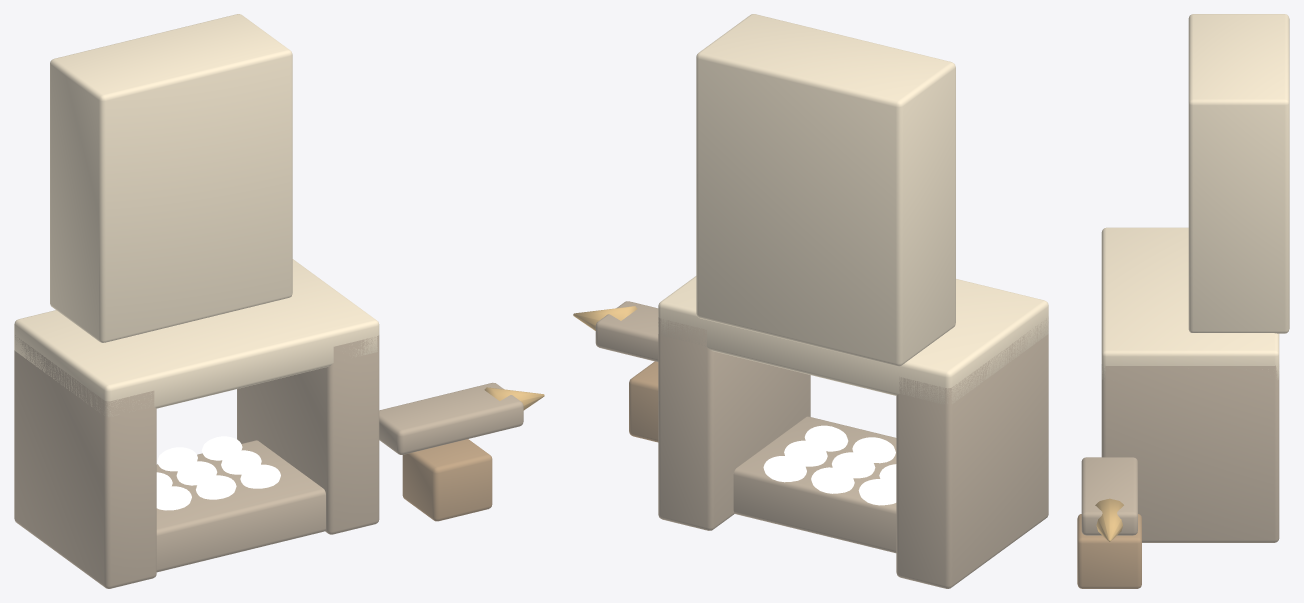
Rendered from castle_detail_forge_purified.glb.
3 renders of one model, left to right at view 1: azimuth 30°, elevation 25°; view 2: azimuth 150°, elevation 25°; view 3: azimuth 270°, elevation 25°, orthographic. The views are drawn at different scales.
Visible parts, largest first — view 1: castle_detail_forge_purified_surface; view 2: castle_detail_forge_purified_surface; view 3: castle_detail_forge_purified_surface.
Part boxes in pixels (<box>): castle_detail_forge_purified_surface: <box>14,14,544,588</box>; castle_detail_forge_purified_surface: <box>573,14,1048,588</box>; castle_detail_forge_purified_surface: <box>1077,14,1289,588</box>.
Bounding box in the file's own units: 5.95 × 5.8 × 2.62.
